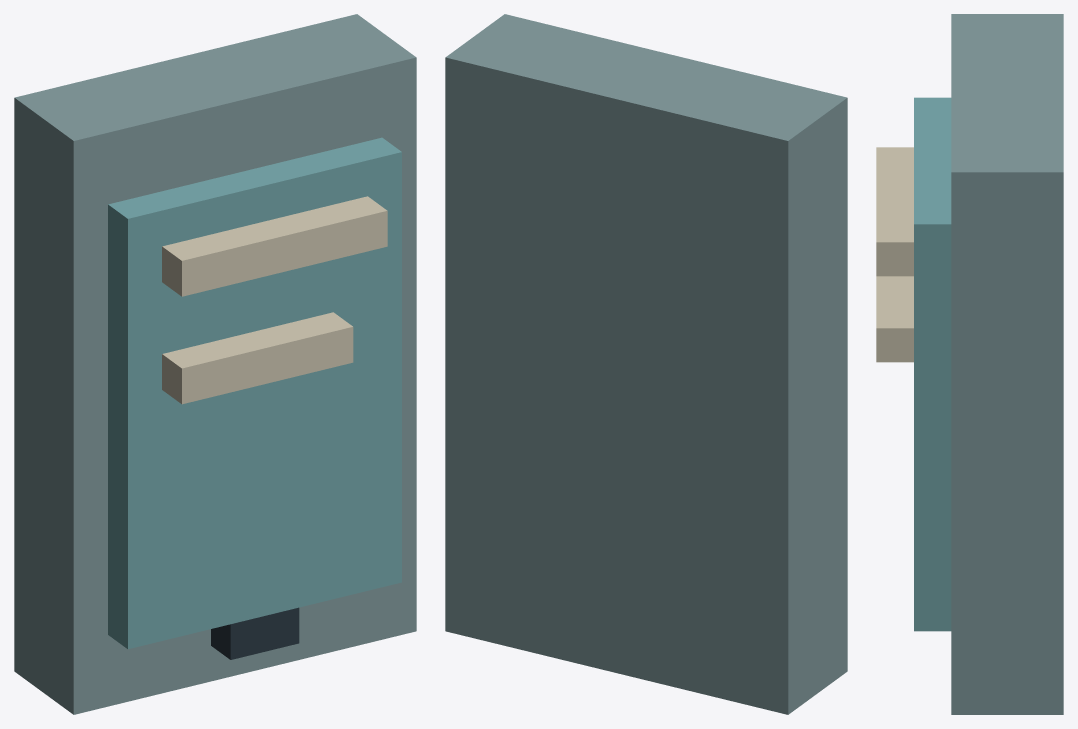
The model's file is iot-19.glb.
3 renders of one model, left to right at view 1: azimuth 30°, elevation 25°; view 2: azimuth 150°, elevation 25°; view 3: azimuth 270°, elevation 25°, orthographic. The views are drawn at different scales.
Visible parts, largest first — view 1: Connected watch; view 2: Connected watch; view 3: Connected watch.
Part boxes in pixels (bbox=[...]): Connected watch: bbox=[14, 14, 416, 714]; Connected watch: bbox=[445, 14, 847, 714]; Connected watch: bbox=[876, 14, 1063, 714].
Bounding box in the file's own units: 0.8 × 1.28 × 0.4.
